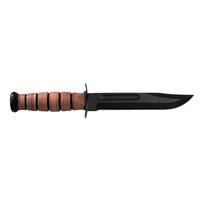knife: (7, 80, 198, 124)
